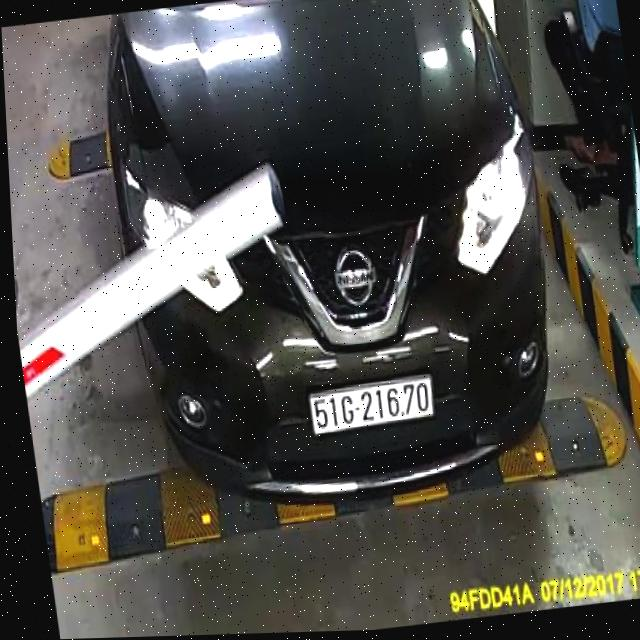car: (88, 0, 581, 530)
plate: (298, 373, 446, 439)
